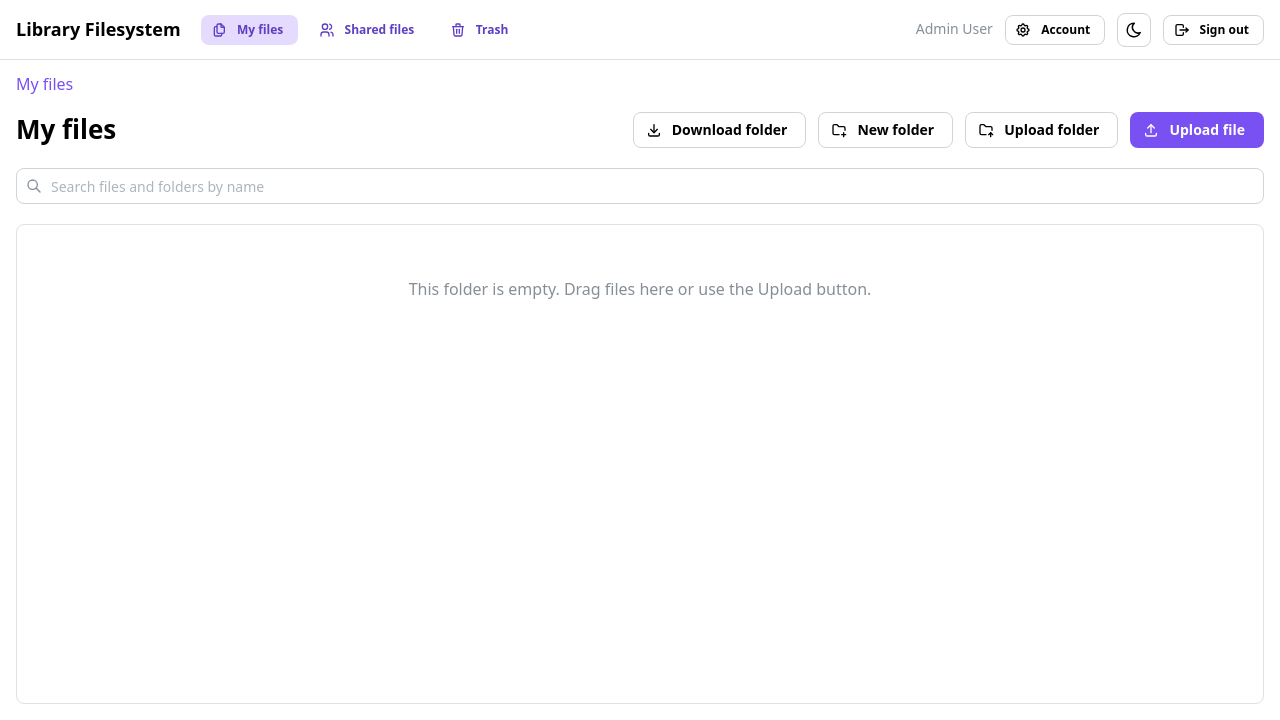
Test: App › navigates to the shared files page
Expected: the heading "My files" is shown, left=16, top=112, right=116, bottom=148
Click the button "Shared files": [369, 30] box left=308, top=14, right=429, bottom=44
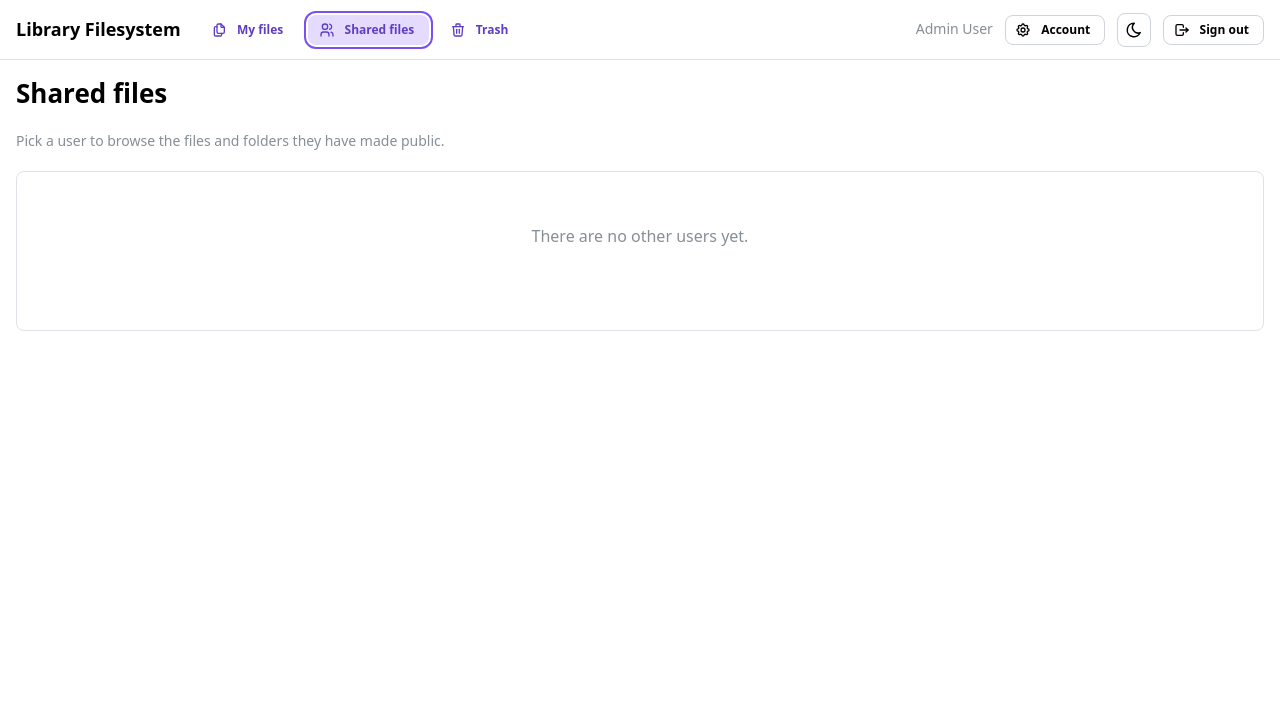
Expected: the heading "Shared files" is shown, left=16, top=75, right=167, bottom=111
